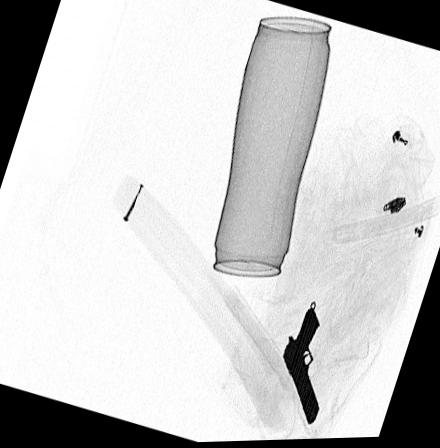Gun: (281, 309, 321, 427)
